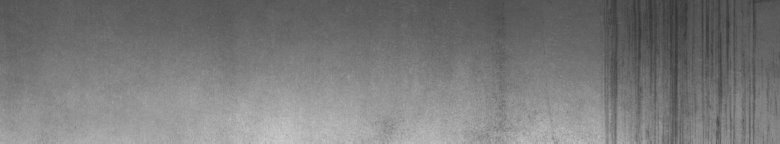ka: (604, 4, 756, 136)
